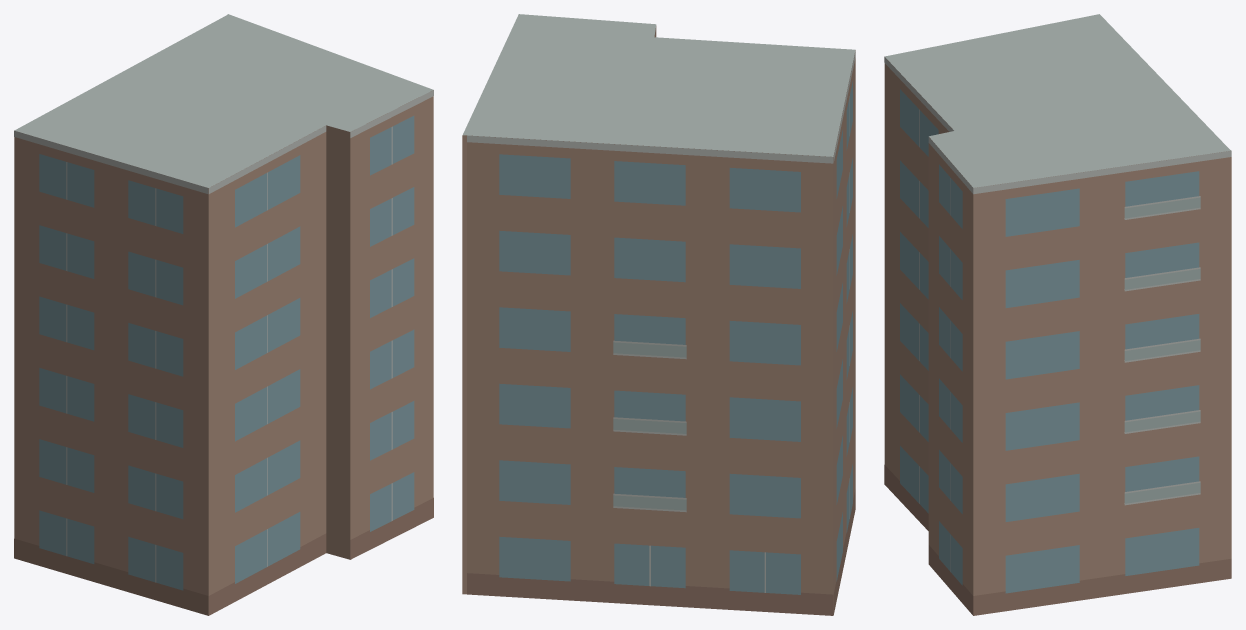
Rendered from survey-upis-32855829.glb.
3 views of the same model, side by side, from view 1: azimuth 30°, elevation 25°; view 2: azimuth 150°, elevation 25°; view 3: azimuth 270°, elevation 25° (orthographic). The views are drawn at different scales.
Parts seen in each view (by area): view 1: survey-upis-32855829.tmp; view 2: survey-upis-32855829.tmp; view 3: survey-upis-32855829.tmp.
Part boxes in pixels (<box>): survey-upis-32855829.tmp: <box>14,14,433,615</box>; survey-upis-32855829.tmp: <box>462,14,855,615</box>; survey-upis-32855829.tmp: <box>884,14,1231,615</box>.
Bounding box in the file's own units: 14.48 × 16.6 × 12.21.
